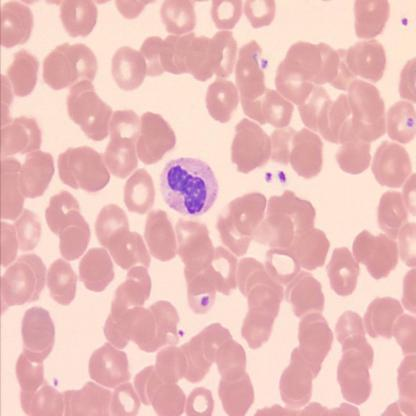Band Neutrophil: (157, 153, 219, 218)
